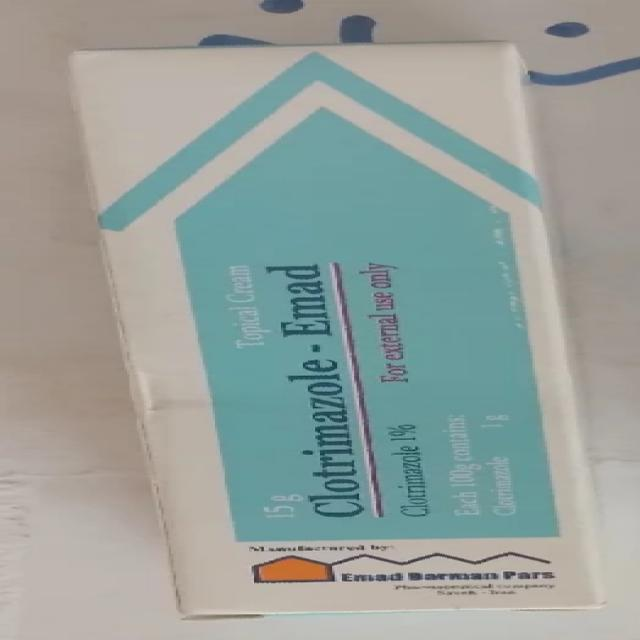drug-name: (264, 260, 376, 524)
